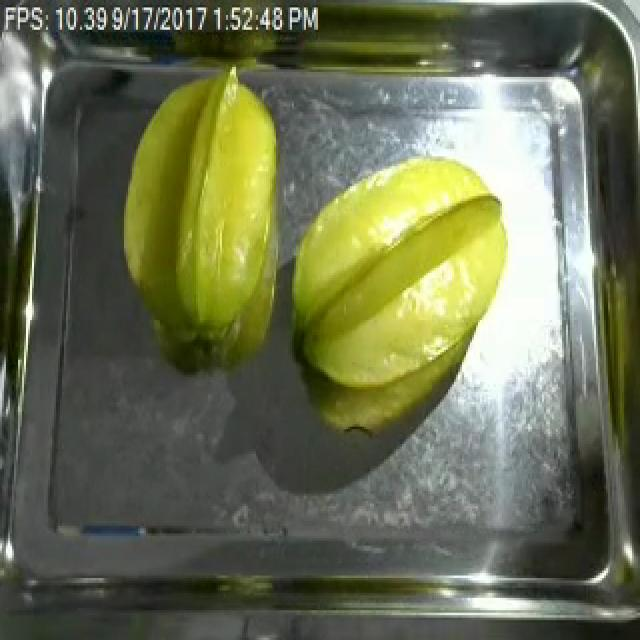fruit: (278, 146, 522, 407), (108, 55, 290, 357)
